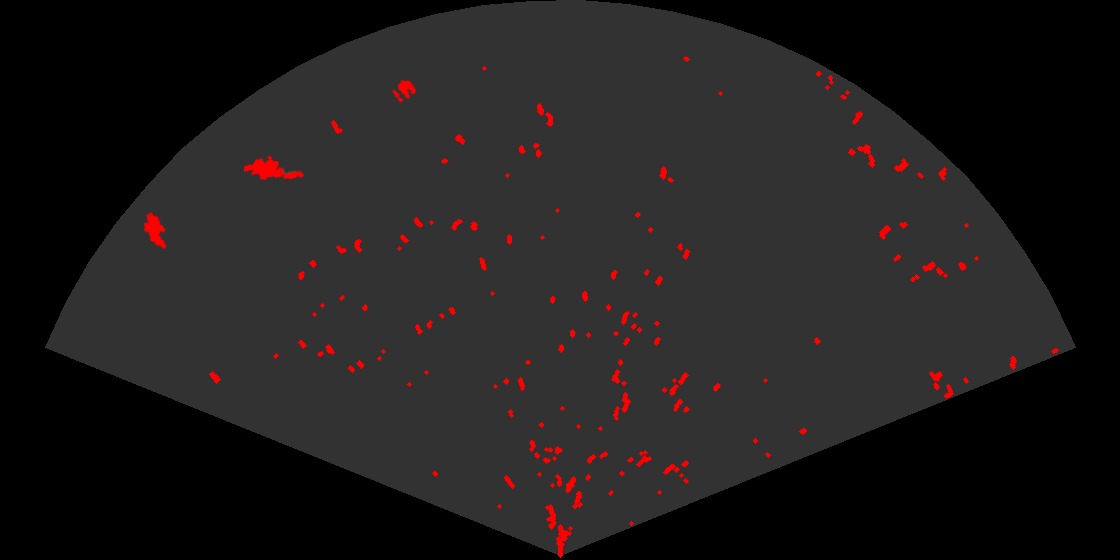AUV: (142, 210, 168, 251)
ball: (391, 78, 418, 104)
frogman: (244, 154, 305, 182)
